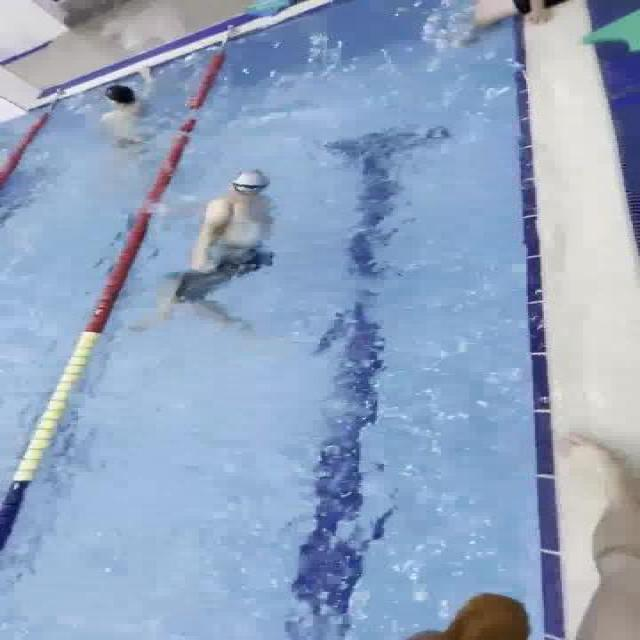Swimming: (136, 168, 274, 339), (96, 63, 156, 141)
